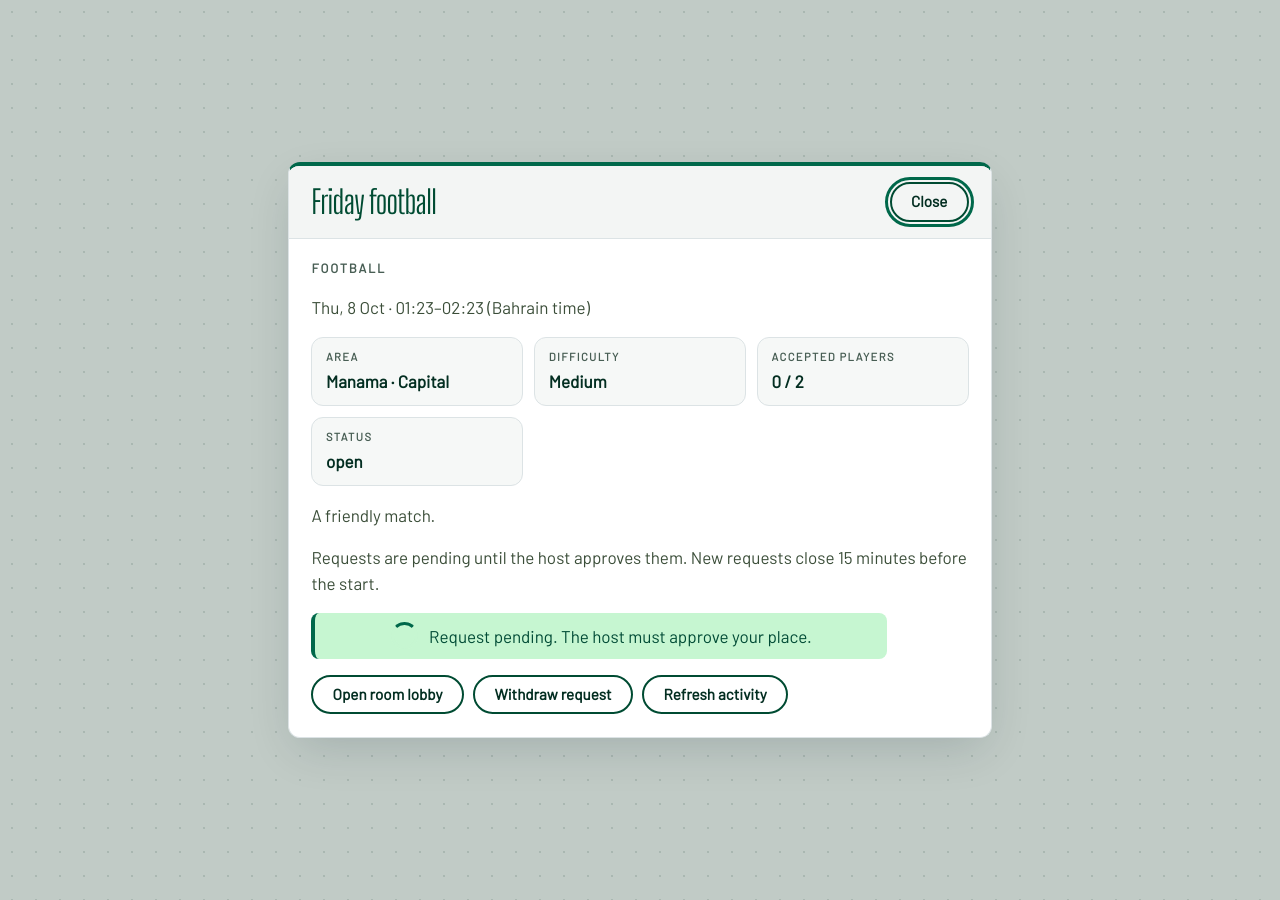
Test: fresh membership decisions › withdraws a pending request and respects the retained terminal membership
Click the button "Withdraw request": x=553, y=695 [473,675,633,714]
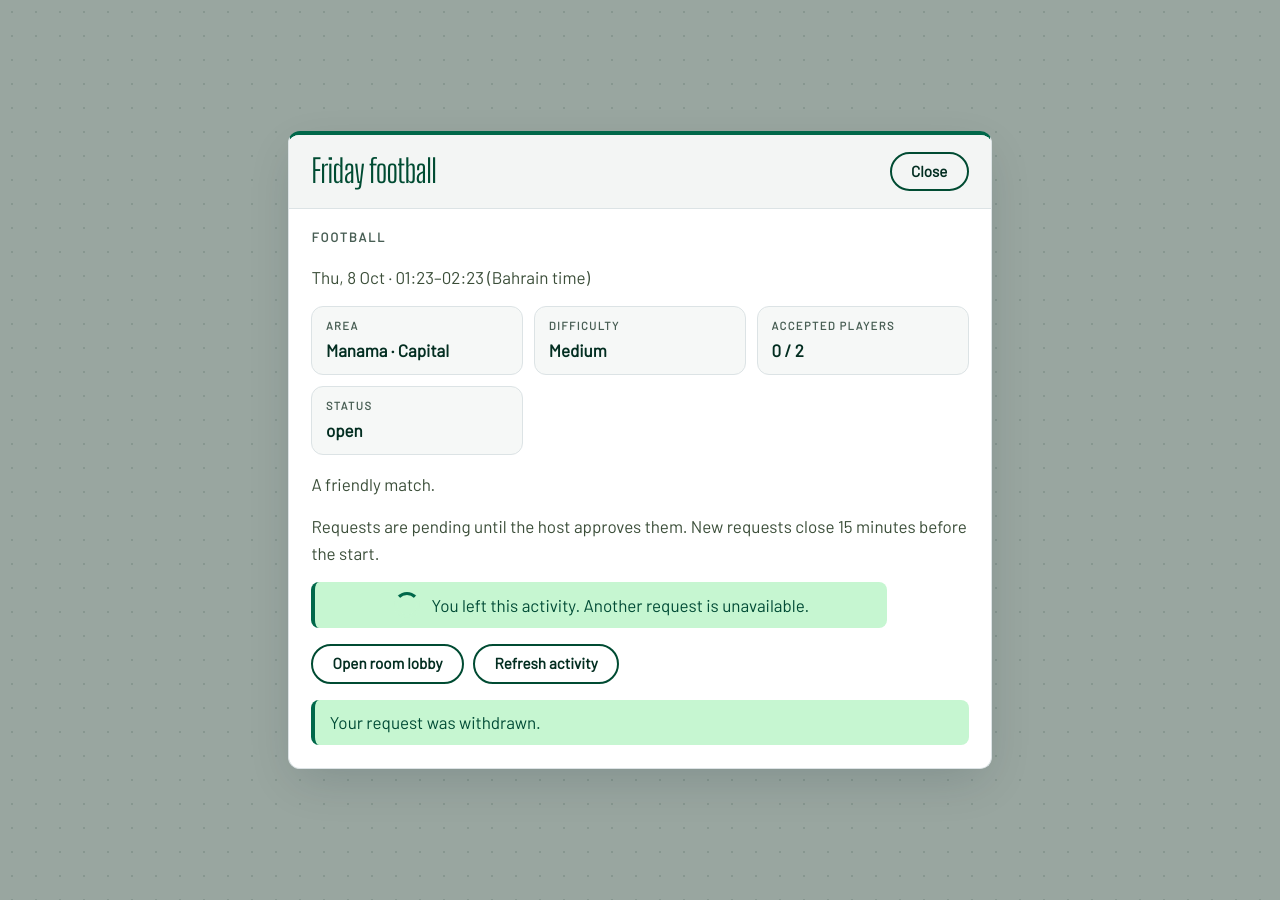
Check: the text "You left this activity. Another request is unavailable." is shown, box [311,582,887,628]
Check: the button "Withdraw request" is gone
